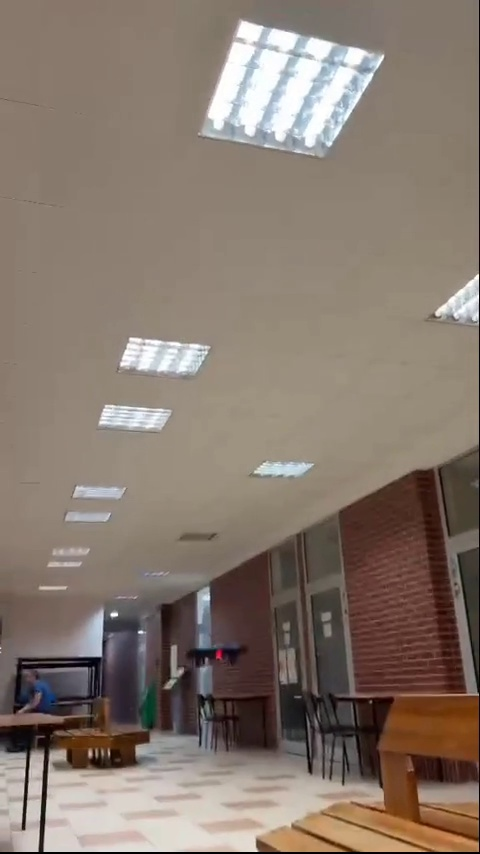drone: (191, 643, 251, 671)
no vest: (18, 665, 55, 715)
